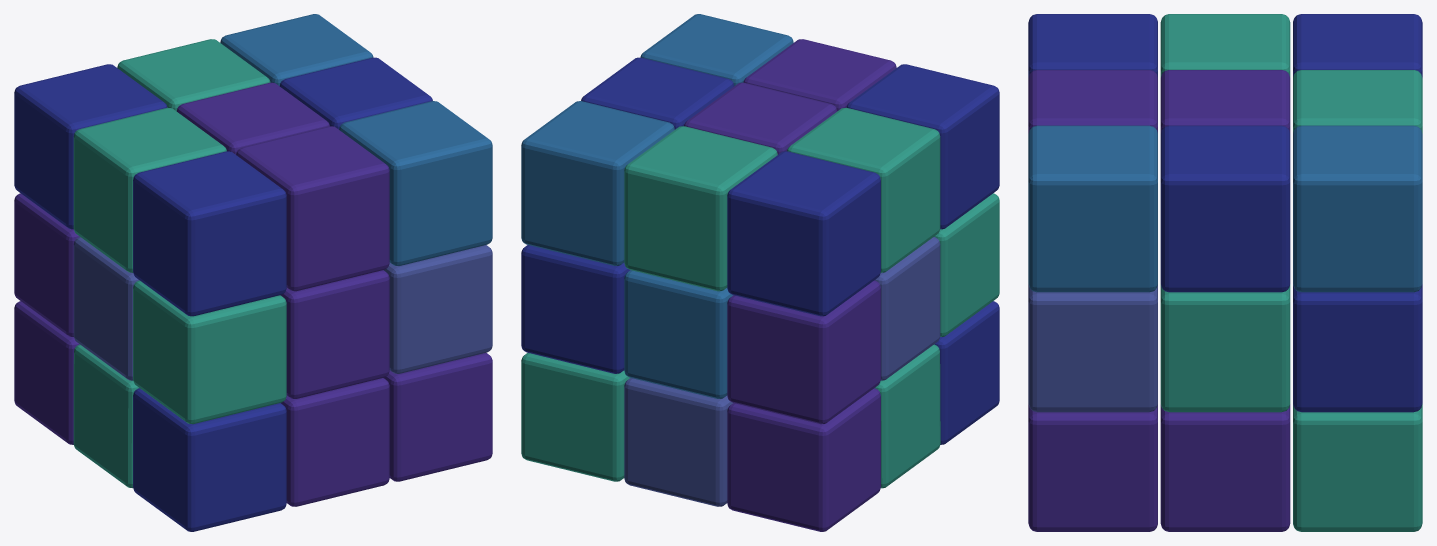
Rendered from RUBIX.gltf.
3 renders of one model, left to right at view 1: azimuth 30°, elevation 25°; view 2: azimuth 150°, elevation 25°; view 3: azimuth 270°, elevation 25°, orthographic. The views are drawn at different scales.
Visible parts, largest first — view 1: 1.1, 7.1, 4.1, 2.1, 3.1, 1.3, 1.2, 6.1, 9.1, 5.1, 8.1, 7.3 (+7 smaller); view 2: 1.3, 7.3, 4.3, 2.3, 3.3, 1.1, 1.2, 6.3, 9.3, 5.3, 8.3, 7.1 (+7 smaller); view 3: 3.2, 3.1, 3.3, 6.2, 9.2, 6.1, 6.3, 9.1, 9.3, 2.2, 1.2, 1.1 (+3 smaller).
Boxes of the visible parts, bbox=[...] form: 1.1: bbox=[133, 151, 286, 316]; 7.1: bbox=[133, 388, 286, 531]; 4.1: bbox=[133, 280, 286, 424]; 2.1: bbox=[236, 126, 389, 291]; 3.1: bbox=[339, 101, 492, 265]; 1.3: bbox=[14, 64, 167, 229]; 1.2: bbox=[73, 107, 226, 272]; 6.1: bbox=[383, 245, 492, 373]; 9.1: bbox=[383, 353, 492, 481]; 5.1: bbox=[280, 270, 389, 398]; 8.1: bbox=[281, 378, 389, 506]; 7.3: bbox=[14, 301, 79, 444]; 1.3: bbox=[727, 151, 880, 316]; 7.3: bbox=[727, 388, 880, 531]; 4.3: bbox=[727, 280, 880, 424]; 2.3: bbox=[624, 126, 777, 291]; 3.3: bbox=[521, 101, 674, 265]; 1.1: bbox=[846, 64, 999, 229]; 1.2: bbox=[787, 107, 940, 272]; 6.3: bbox=[521, 245, 630, 373]; 9.3: bbox=[521, 353, 630, 481]; 5.3: bbox=[624, 270, 733, 398]; 8.3: bbox=[624, 378, 732, 506]; 7.1: bbox=[934, 301, 999, 444]; 3.2: bbox=[1160, 125, 1290, 292]; 3.1: bbox=[1028, 125, 1157, 292]; 3.3: bbox=[1293, 125, 1422, 292]; 6.2: bbox=[1160, 284, 1290, 412]; 9.2: bbox=[1160, 404, 1290, 531]; 6.1: bbox=[1028, 284, 1157, 412]; 6.3: bbox=[1293, 284, 1422, 412]; 9.1: bbox=[1028, 404, 1157, 531]; 9.3: bbox=[1293, 404, 1422, 531]; 2.2: bbox=[1160, 70, 1290, 133]; 1.2: bbox=[1160, 14, 1290, 77]; 1.1: bbox=[1028, 14, 1157, 77].
Size of the model in its own units: 6.09 by 6.09 by 6.08.
